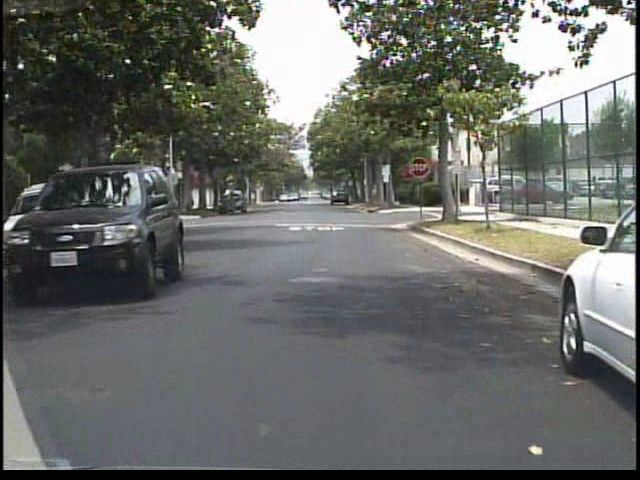person: (224, 180, 245, 221)
